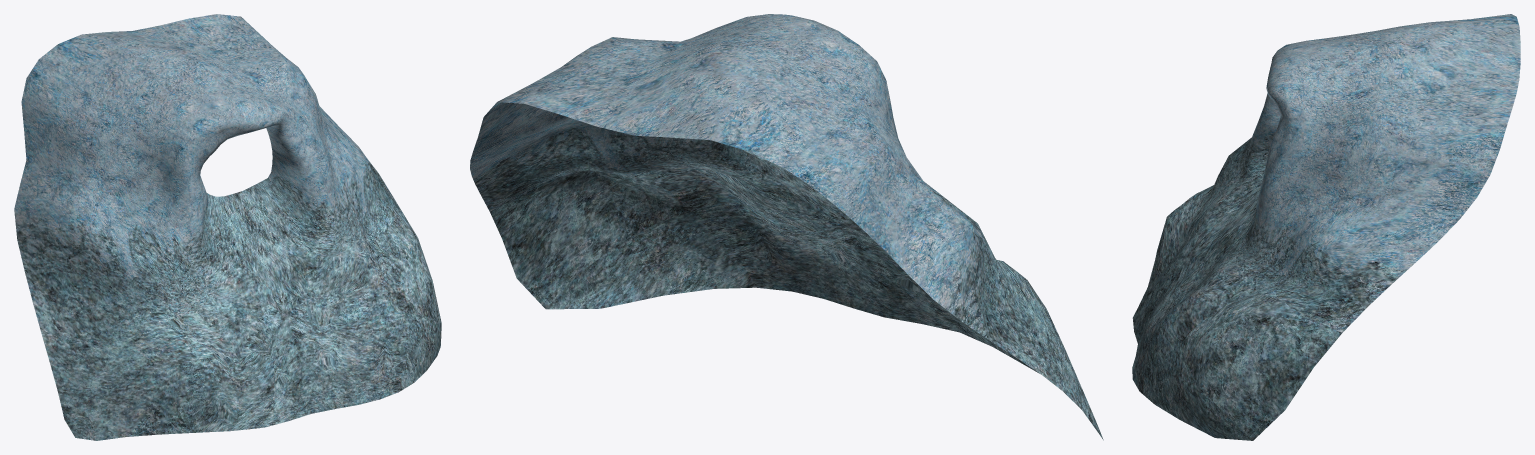
The model's file is thm_all_cave_s01_ice_r0_mesh_l0.fbx.
3 views of the same model, side by side, from view 1: azimuth 30°, elevation 25°; view 2: azimuth 150°, elevation 25°; view 3: azimuth 270°, elevation 25° (orthographic). The views are drawn at different scales.
Parts seen in each view (by area): view 1: mesh_node; view 2: mesh_node; view 3: mesh_node.
Boxes of the visible parts, x1=… form: mesh_node: x1=14, y1=14, x2=441, y2=440; mesh_node: x1=470, y1=14, x2=1103, y2=440; mesh_node: x1=1132, y1=14, x2=1520, y2=440.
Size of the model in its own units: 48.97 by 34.28 by 39.36.
